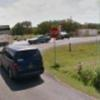cars: (1, 46, 44, 79)
